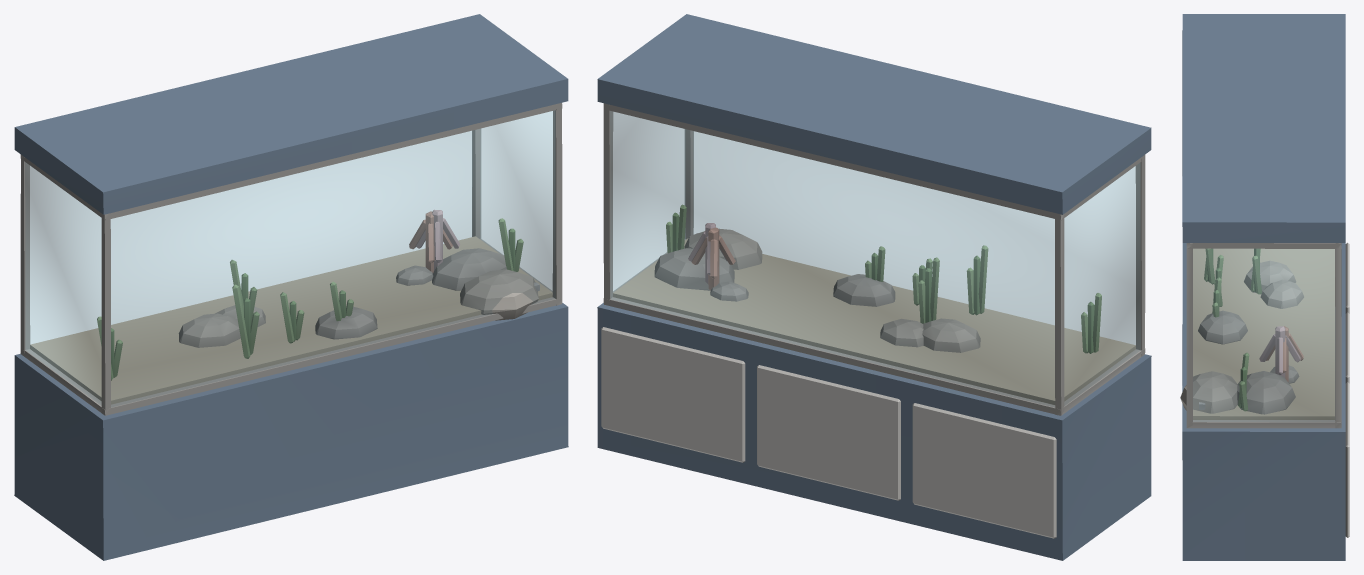
File: furn_aquarium_big__navy_low.glb
3 views of the same model, side by side, from view 1: azimuth 30°, elevation 25°; view 2: azimuth 150°, elevation 25°; view 3: azimuth 270°, elevation 25° (orthographic). The views are drawn at different scales.
Size of the model in its own units: 2.39 by 1.82 by 0.8214.
